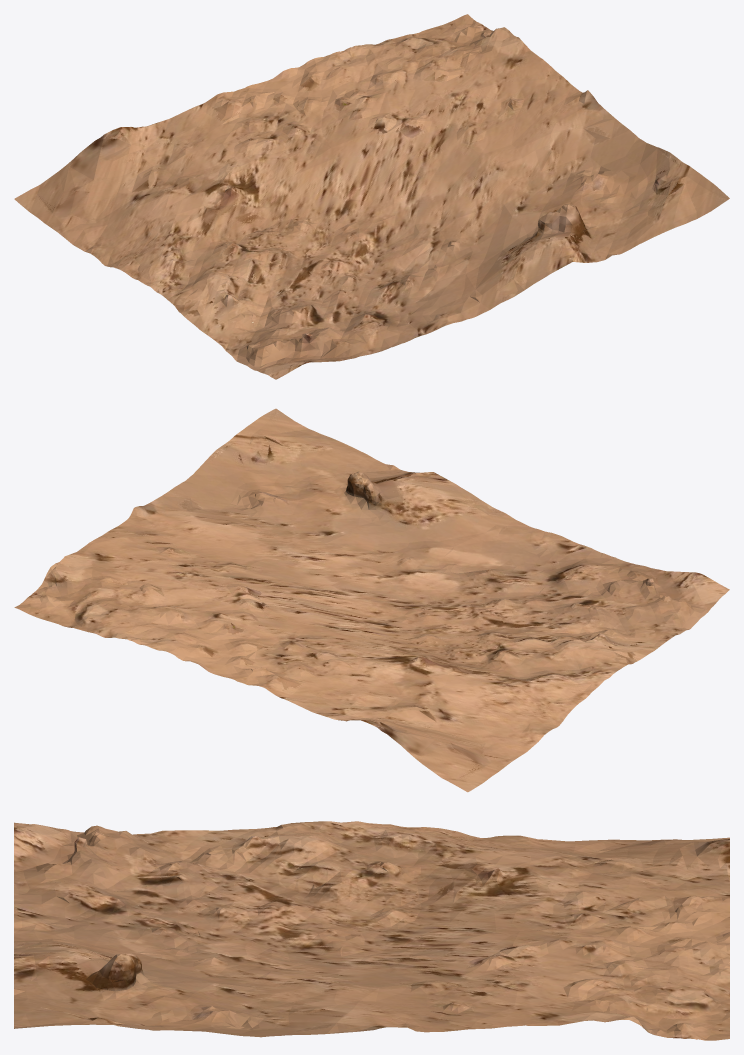
3 views of the same model, one above another, from view 1: azimuth 30°, elevation 25°; view 2: azimuth 150°, elevation 25°; view 3: azimuth 270°, elevation 25° (orthographic). The views are drawn at different scales.
Bounding box in the file's own units: 1.04 × 0.1997 × 1.04.
2 materials, 2 textured.
